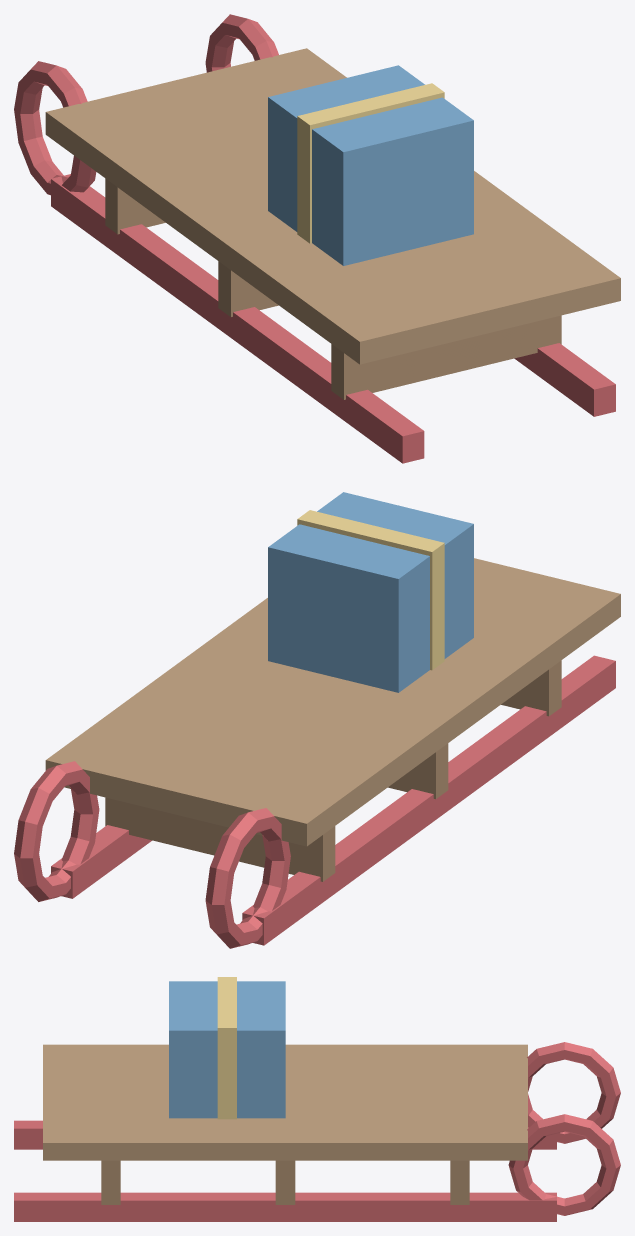
File: prop_sled.glb
3 renders of one model, top to bottom at view 1: azimuth 30°, elevation 25°; view 2: azimuth 150°, elevation 25°; view 3: azimuth 270°, elevation 25°, orthographic. The views are drawn at different scales.
Visible parts, largest first — view 1: Deck, Gift on sled, Runner.-1, Post.0, Gift ribbon; view 2: Deck, Runner.-1, Gift on sled, Post.0, Gift ribbon; view 3: Deck, Runner.-1, Gift on sled, Gift ribbon, Post.0.
Part boxes in pixels (bbox=[...]): Deck: bbox=[45, 48, 620, 364]; Gift on sled: bbox=[268, 65, 473, 265]; Runner.-1: bbox=[14, 14, 615, 463]; Post.0: bbox=[105, 178, 561, 399]; Gift ribbon: bbox=[297, 83, 444, 243]; Deck: bbox=[45, 558, 620, 846]; Runner.-1: bbox=[14, 655, 615, 948]; Gift on sled: bbox=[268, 492, 473, 692]; Post.0: bbox=[105, 660, 561, 881]; Gift ribbon: bbox=[297, 510, 444, 670]; Deck: bbox=[43, 1044, 527, 1160]; Runner.-1: bbox=[14, 1042, 620, 1221]; Gift on sled: bbox=[169, 981, 285, 1118]; Gift ribbon: bbox=[217, 977, 236, 1119]; Post.0: bbox=[101, 1160, 469, 1204].
Bounding box in the file's own units: 0.6 × 0.51 × 1.56.
